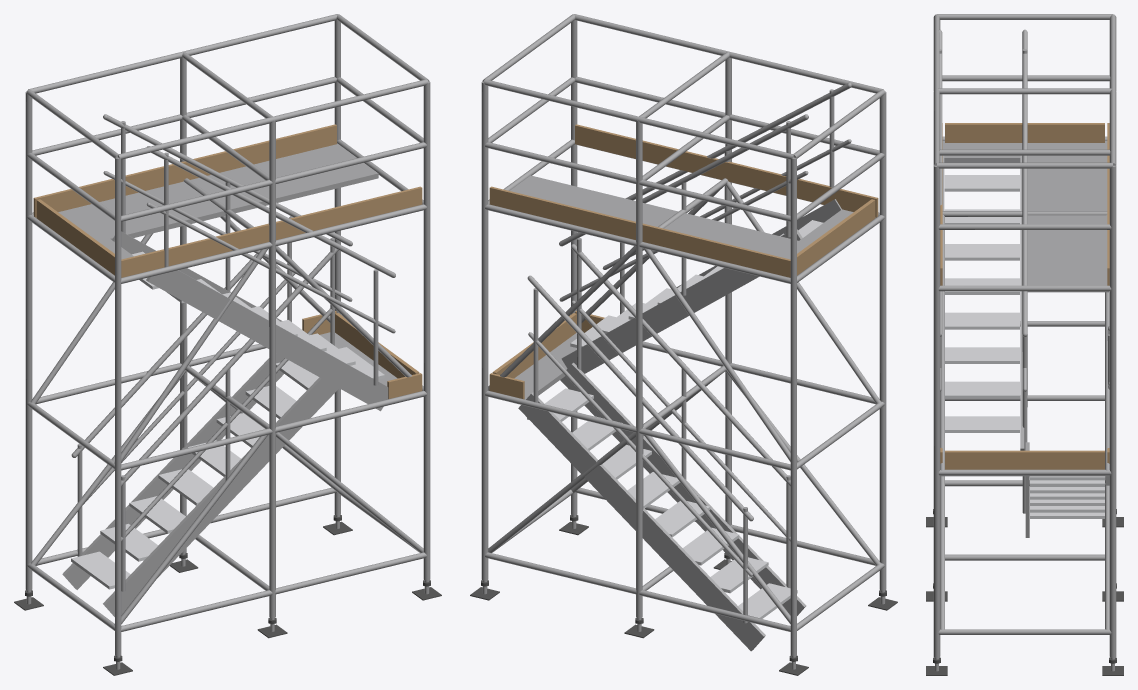
The model's file is stair_tower.glb.
3 views of the same model, side by side, from view 1: azimuth 30°, elevation 25°; view 2: azimuth 150°, elevation 25°; view 3: azimuth 270°, elevation 25° (orthographic).
Parts seen in each view (by area): view 1: stairs, stair_tower_frame; view 2: stairs, stair_tower_frame; view 3: stairs, stair_tower_frame.
Part boxes in pixels (x1,y1,x2,y2): stairs: [33, 114, 422, 616]; stair_tower_frame: [14, 14, 441, 675]; stairs: [489, 82, 878, 651]; stair_tower_frame: [470, 14, 897, 675]; stairs: [938, 29, 1109, 537]; stair_tower_frame: [926, 14, 1123, 675].
Size of the model in its own units: 2.76 by 4.14 by 1.46.
4 materials, 4 textured.
